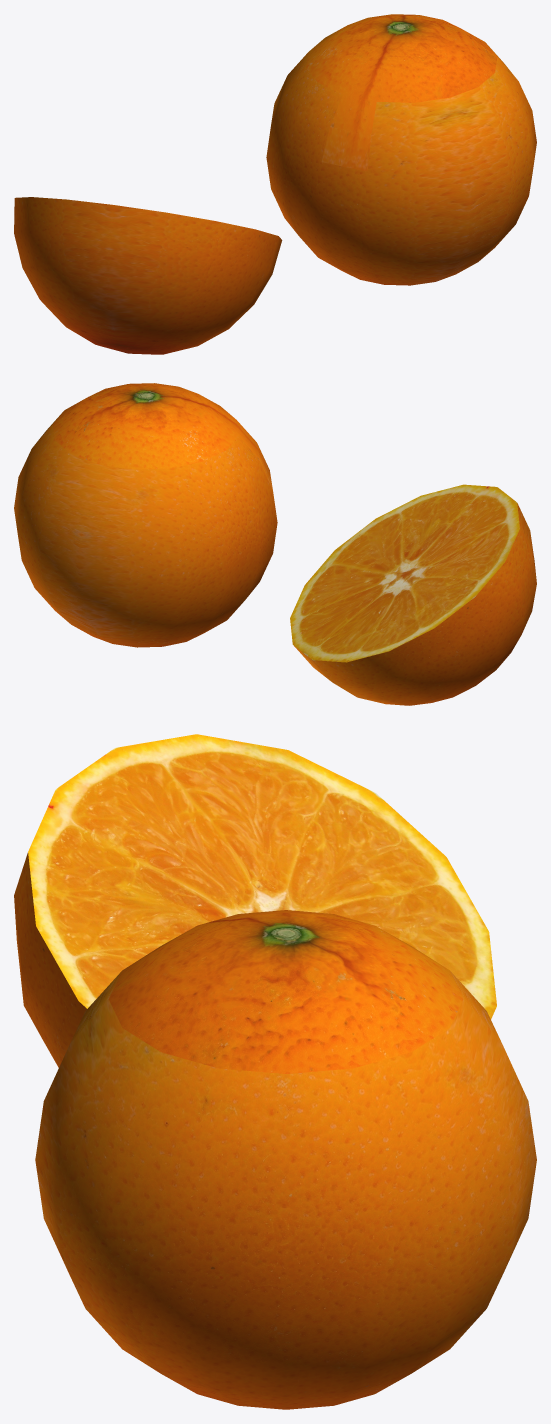
3 renders of one model, top to bottom at view 1: azimuth 30°, elevation 25°; view 2: azimuth 150°, elevation 25°; view 3: azimuth 270°, elevation 25°, orthographic. The views are drawn at different scales.
Parts seen in each view (by area): view 1: SketchUp (×3); view 2: SketchUp (×4); view 3: SketchUp (×4).
Boxes of the visible parts, x1=… form: SketchUp (×3): x1=14, y1=14, x2=536, y2=354; SketchUp (×4): x1=14, y1=383, x2=536, y2=705; SketchUp (×4): x1=14, y1=734, x2=536, y2=1409.
Bounding box in the file's own units: 501 × 249 × 240.
4 materials, 4 textured.
